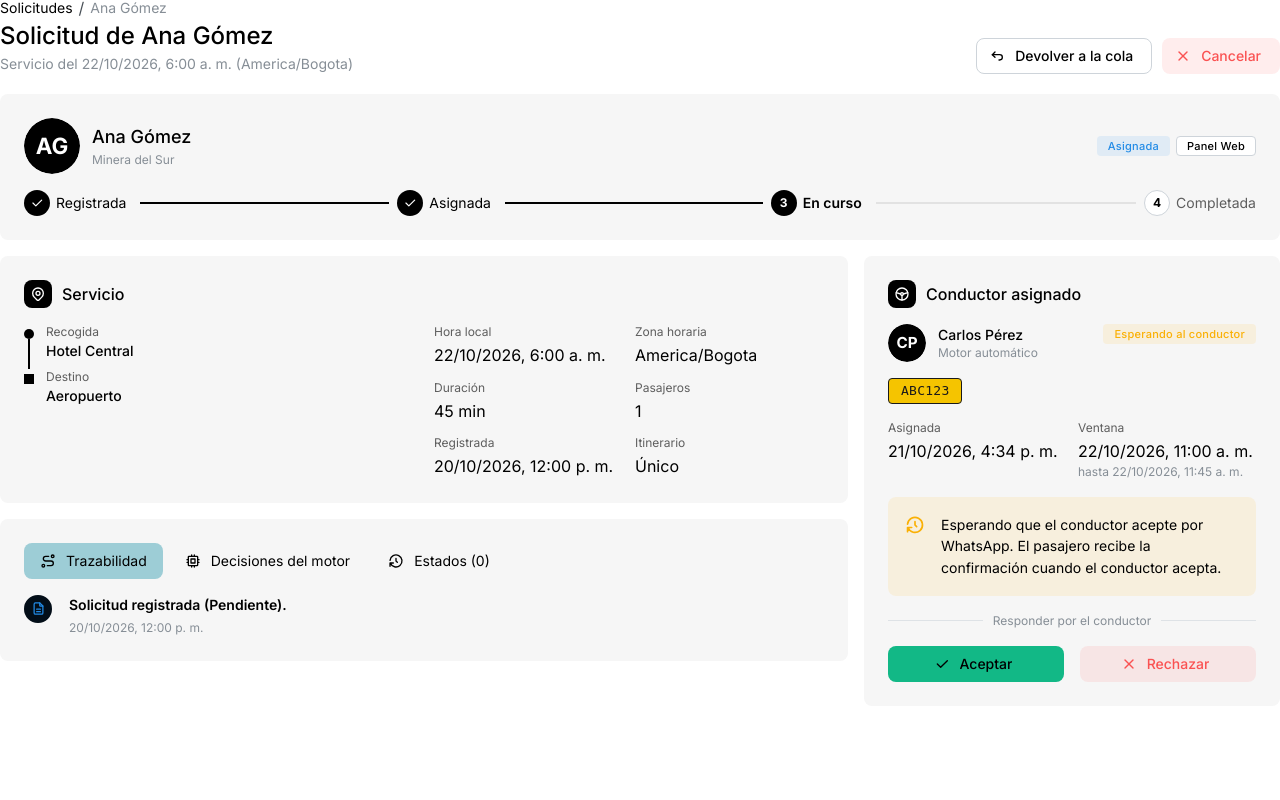
Detalle de la solicitud › rechazar en nombre del conductor pide el motivo
This screenshot has width=1280, height=800.
Click the button "Rechazar" at coordinates (1168, 664), box [1080,646,1256,682]
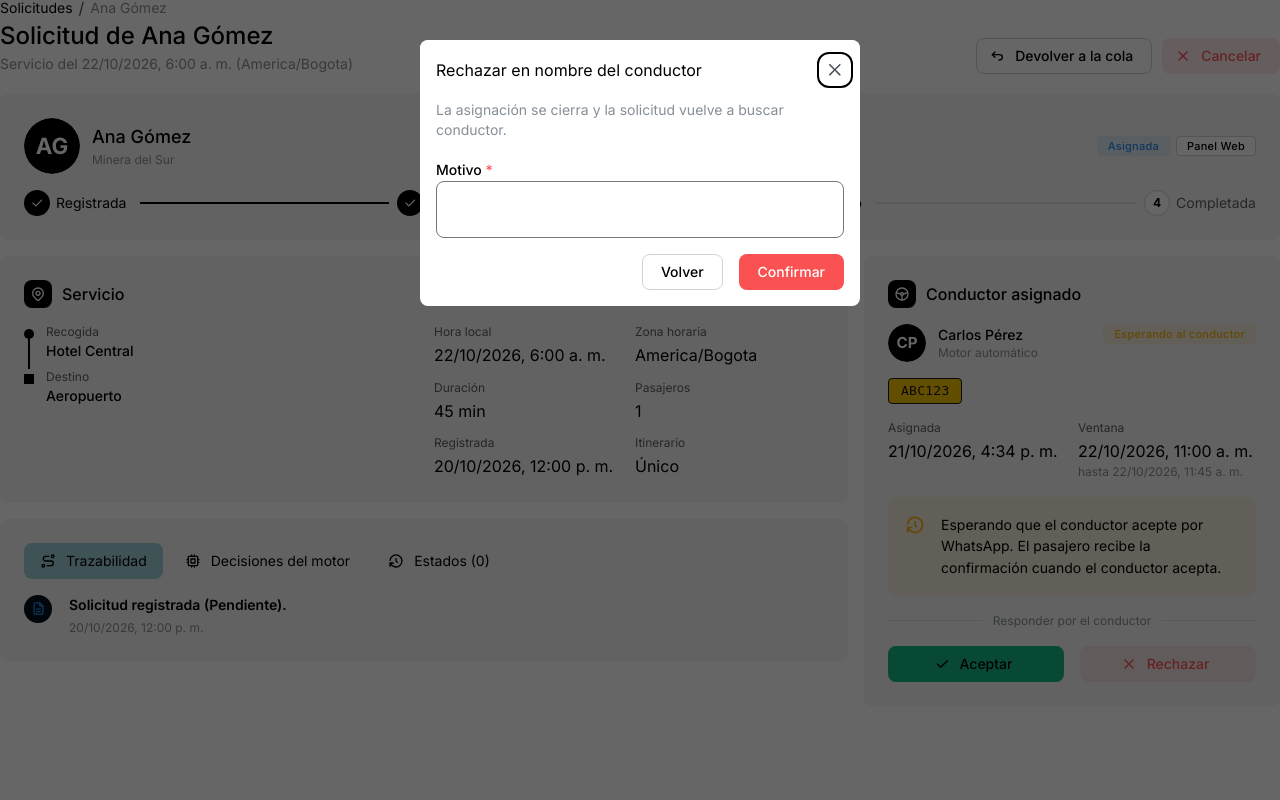
Type "No contesta el teléfono" into the text box labelled "Motivo *" at coordinates (640, 210), box [436,181,844,238]
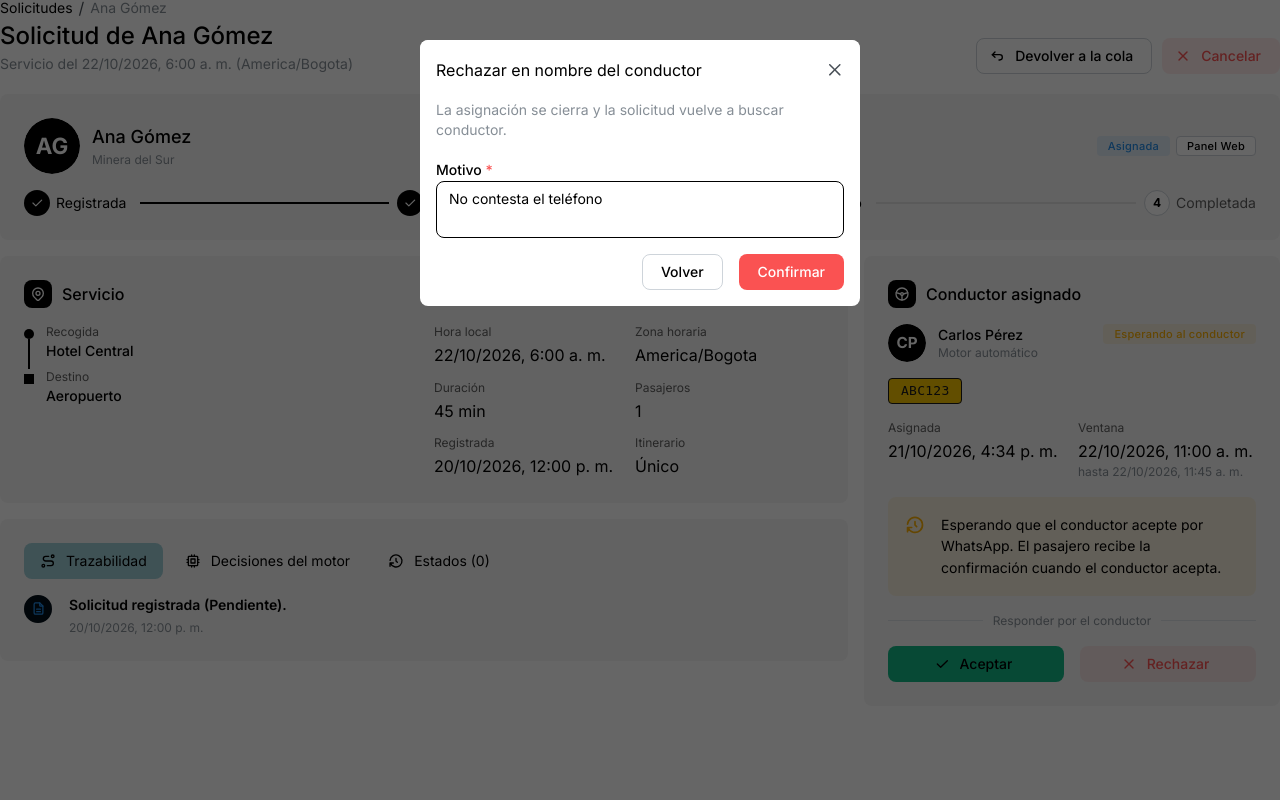
Click the button "Confirmar" at coordinates (791, 272), box [739,254,844,290]
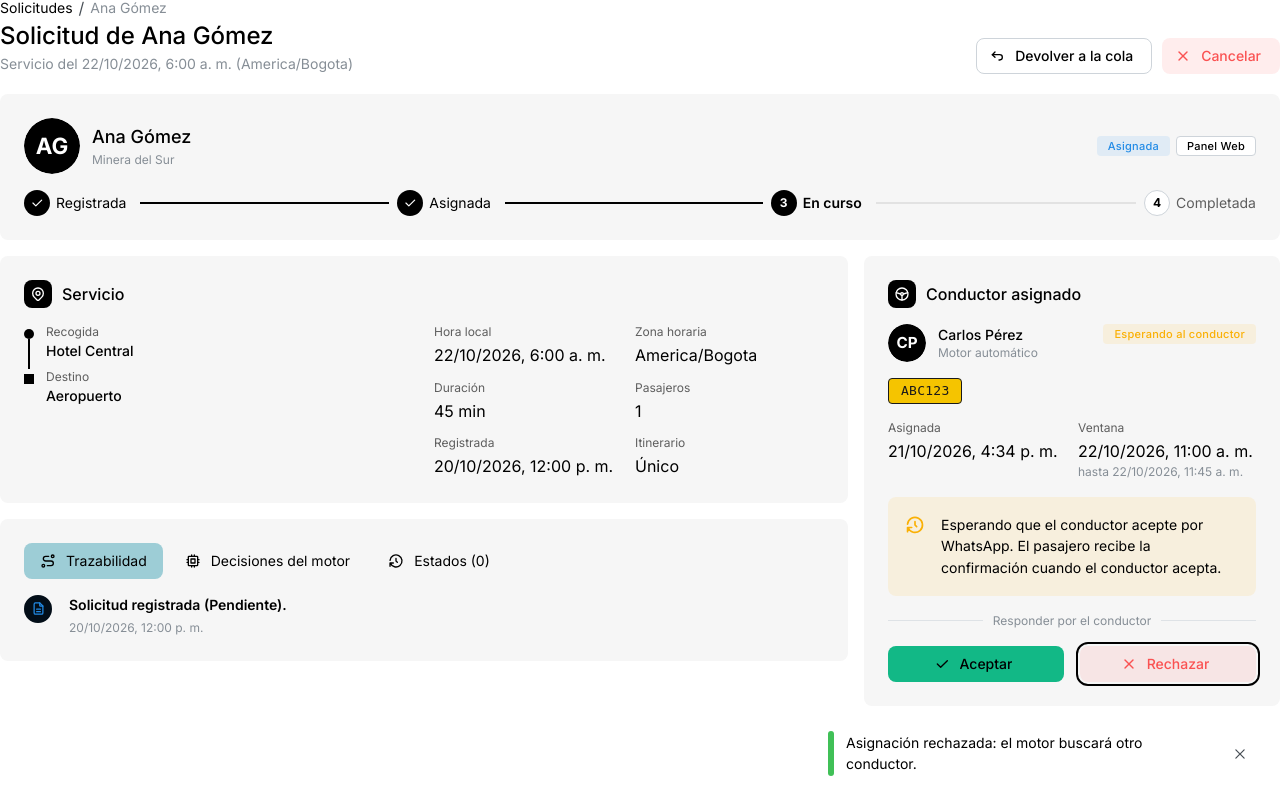
Check: the text "Asignación rechazada: el motor buscará otro conductor." is shown, box [846,734,1142,772]
